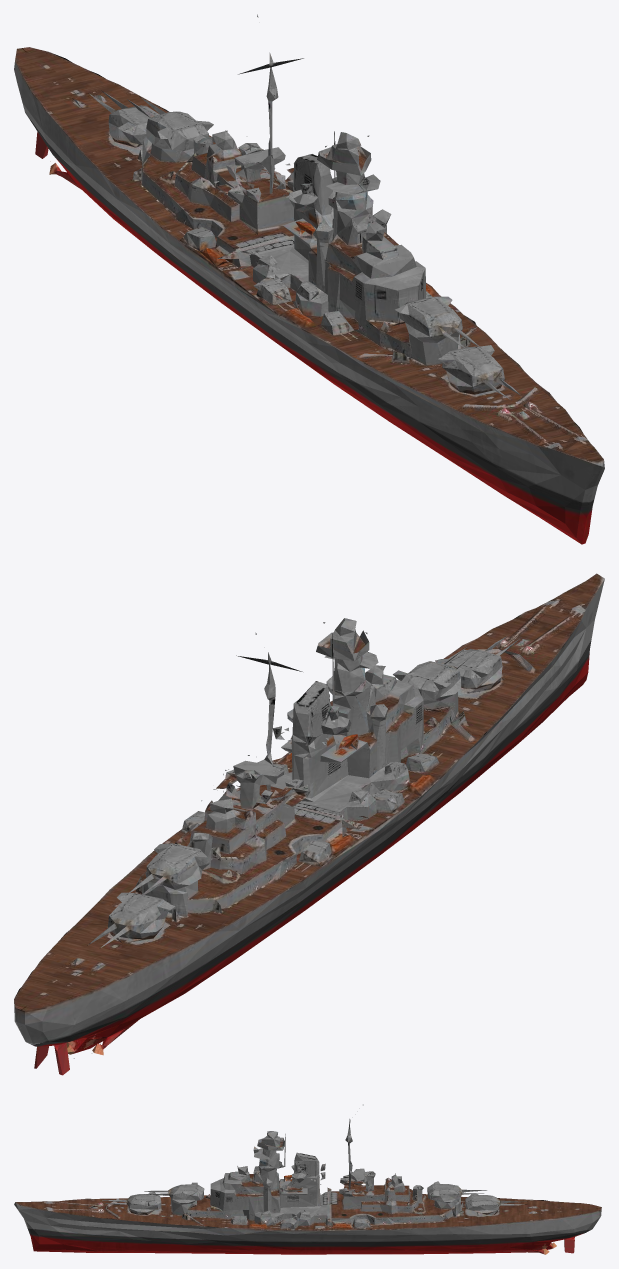
Rendered from realistic-by.76880fe3d732.battleship.glb.
The picture shows the model from 3 angles, top to bottom: view 1: azimuth 30°, elevation 25°; view 2: azimuth 150°, elevation 25°; view 3: azimuth 270°, elevation 25°; orthographic projection. The views are drawn at different scales.
Visible parts, largest first — view 1: battleship; view 2: battleship; view 3: battleship.
Part boxes in pixels (box(x1,y1,x2,y2)): battleship: box(14, 14, 604, 544); battleship: box(14, 573, 604, 1075); battleship: box(14, 1104, 601, 1254).
Bounding box in the file's own units: 36.19 × 69.08 × 251.
Materials: 1 (1 with a texture image).
